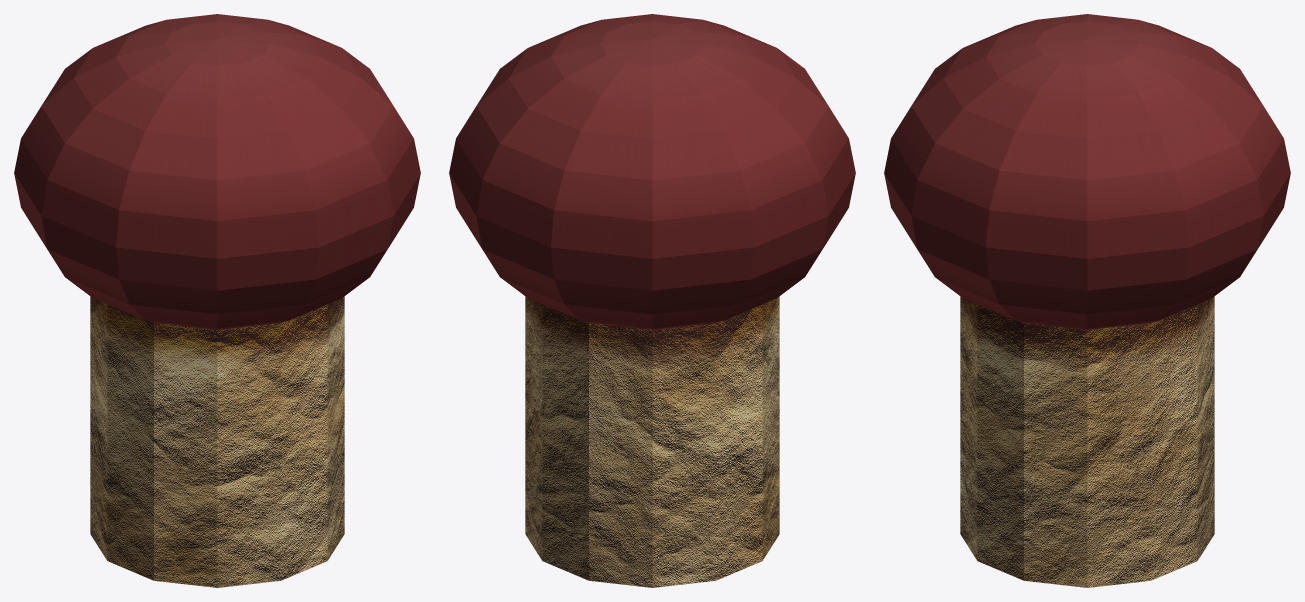
The model's file is WallTower.fbx.
The picture shows the model from 3 angles, left to right: view 1: azimuth 30°, elevation 25°; view 2: azimuth 150°, elevation 25°; view 3: azimuth 270°, elevation 25°; orthographic projection.
Visible parts, largest first — view 1: pSphere2; view 2: pSphere2; view 3: pSphere2.
Part boxes in pixels (box(x1,y1,x2,y2)): pSphere2: box(14, 14, 420, 587); pSphere2: box(449, 14, 855, 587); pSphere2: box(884, 14, 1290, 587).
Size of the model in its own units: 16 by 21.5 by 16.
